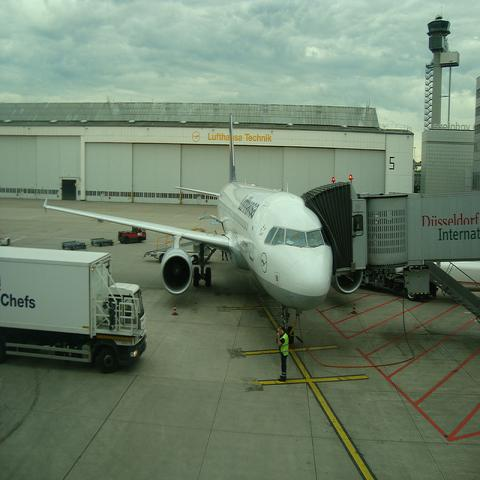truck: (0, 245, 148, 373), (117, 226, 147, 245)
